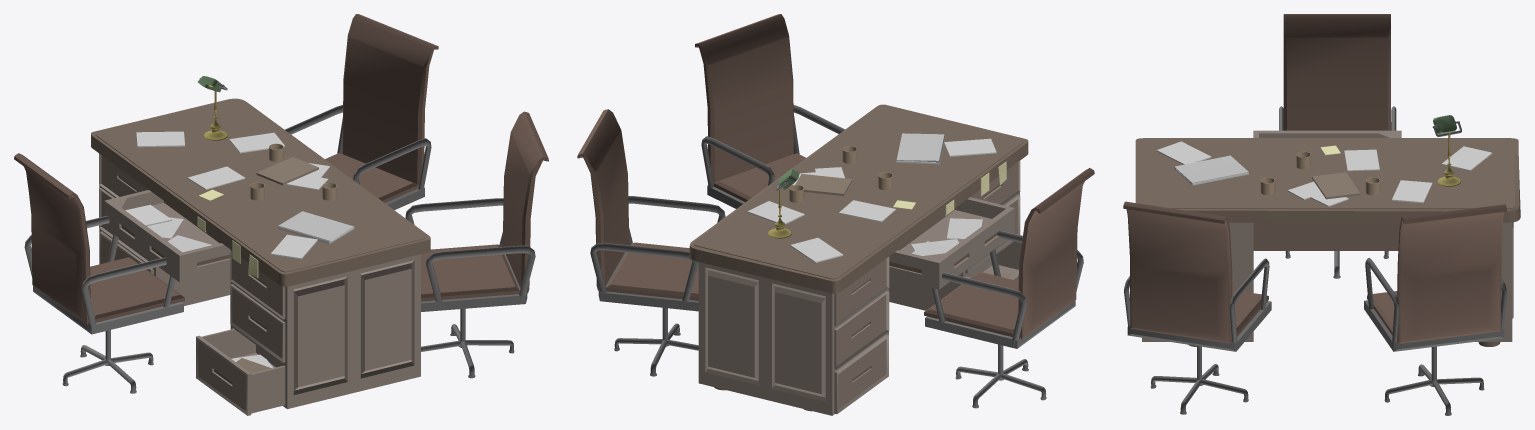
Rendered from office_desk.glb.
3 views of the same model, side by side, from view 1: azimuth 30°, elevation 25°; view 2: azimuth 150°, elevation 25°; view 3: azimuth 270°, elevation 25° (orthographic).
Parts seen in each view (by area): view 1: New_Game_Object2_21, New_Game_Object1_25, New_Game_Object1_11, New_Game_Object1_30, New_Game_Object1_8, New_Game_Object_Clone_1_26, New_Game_Object_9, New_Game_Object_31, New_Game_Object11_23, New_Game_Object_12, New_Game_Object_28, New_Game_Object10_24 (+4 smaller); view 2: New_Game_Object1_25, New_Game_Object2_21, New_Game_Object1_8, New_Game_Object1_30, New_Game_Object1_11, New_Game_Object_Clone_1_26, New_Game_Object_12, New_Game_Object_31, New_Game_Object11_23, New_Game_Object_9, New_Game_Object_28, New_Game_Object10_24 (+4 smaller); view 3: New_Game_Object1_25, New_Game_Object1_11, New_Game_Object1_8, New_Game_Object1_30, New_Game_Object2_21, New_Game_Object_9, New_Game_Object_12, New_Game_Object11_23, New_Game_Object10_24, New_Game_Object12_22, New_Game_Object7_16, New_Game_Object_31 (+1 smaller).
Boxes of the visible parts, x1,y1,x2,y2 form: New_Game_Object2_21: [99, 175, 420, 415]; New_Game_Object1_25: [91, 98, 430, 286]; New_Game_Object1_11: [325, 14, 438, 202]; New_Game_Object1_30: [14, 153, 184, 324]; New_Game_Object1_8: [421, 111, 548, 301]; New_Game_Object_Clone_1_26: [101, 155, 282, 411]; New_Game_Object_9: [405, 198, 535, 378]; New_Game_Object_31: [24, 215, 183, 393]; New_Game_Object11_23: [136, 131, 329, 368]; New_Game_Object_12: [285, 105, 431, 209]; New_Game_Object_28: [99, 153, 282, 415]; New_Game_Object10_24: [277, 211, 354, 243]; New_Game_Object1_25: [689, 104, 1028, 293]; New_Game_Object2_21: [698, 184, 1021, 415]; New_Game_Object1_8: [695, 14, 805, 202]; New_Game_Object1_30: [924, 168, 1094, 339]; New_Game_Object1_11: [577, 109, 698, 300]; New_Game_Object_Clone_1_26: [836, 162, 1018, 409]; New_Game_Object_12: [590, 196, 725, 376]; New_Game_Object_31: [925, 230, 1083, 408]; New_Game_Object11_23: [747, 138, 996, 262]; New_Game_Object_9: [701, 105, 844, 208]; New_Game_Object_28: [836, 161, 1020, 413]; New_Game_Object10_24: [896, 133, 945, 164]; New_Game_Object1_25: [1135, 138, 1520, 250]; New_Game_Object1_11: [1367, 204, 1506, 343]; New_Game_Object1_8: [1123, 201, 1268, 343]; New_Game_Object1_30: [1283, 14, 1390, 130]; New_Game_Object2_21: [1142, 130, 1513, 341]; New_Game_Object_9: [1124, 258, 1271, 414]; New_Game_Object_12: [1364, 258, 1506, 415]; New_Game_Object11_23: [1156, 141, 1492, 206]; New_Game_Object10_24: [1174, 155, 1248, 185]; New_Game_Object12_22: [1312, 172, 1360, 199]; New_Game_Object7_16: [1260, 151, 1380, 195]; New_Game_Object_31: [1279, 106, 1396, 278].
Size of the model in its own units: 8.99 by 4.38 by 7.29.
